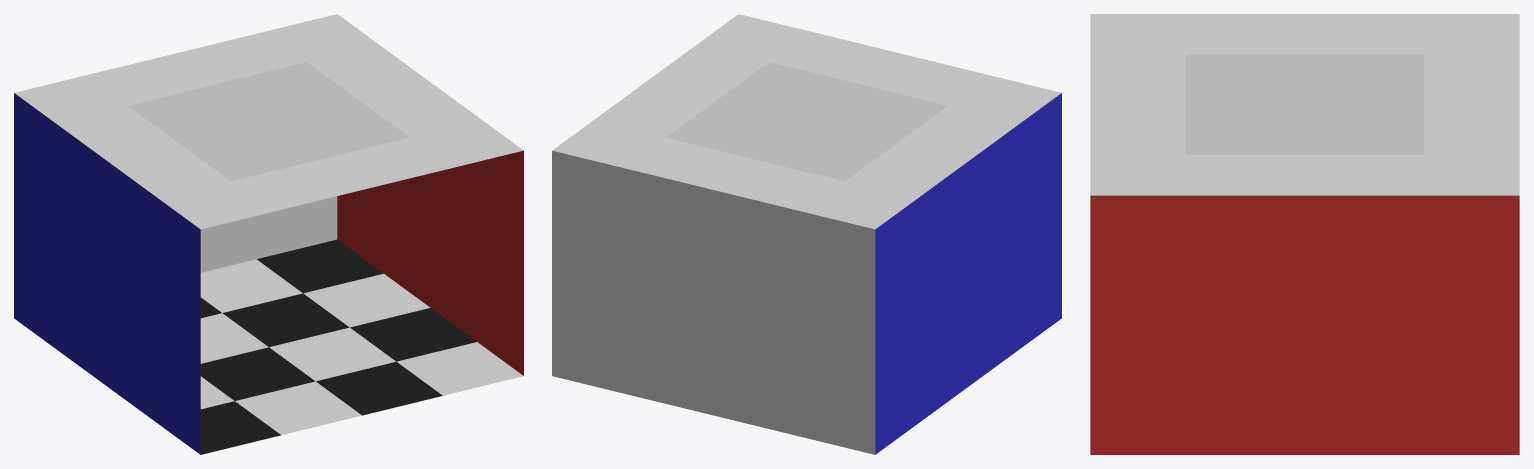
Rendered from Cornell.obj.
3 views of the same model, side by side, from view 1: azimuth 30°, elevation 25°; view 2: azimuth 150°, elevation 25°; view 3: azimuth 270°, elevation 25° (orthographic). The views are drawn at different scales.
Parts seen in each view (by area): view 1: Cornell_Plane.003; view 2: Cornell_Plane.003; view 3: Cornell_Plane.003.
Part boxes in pixels (x1=…): Cornell_Plane.003: x1=14, y1=14, x2=523, y2=454; Cornell_Plane.003: x1=552, y1=14, x2=1061, y2=454; Cornell_Plane.003: x1=1090, y1=14, x2=1519, y2=454.
Bounding box in the file's own units: 41.39 × 27.59 × 41.39.
